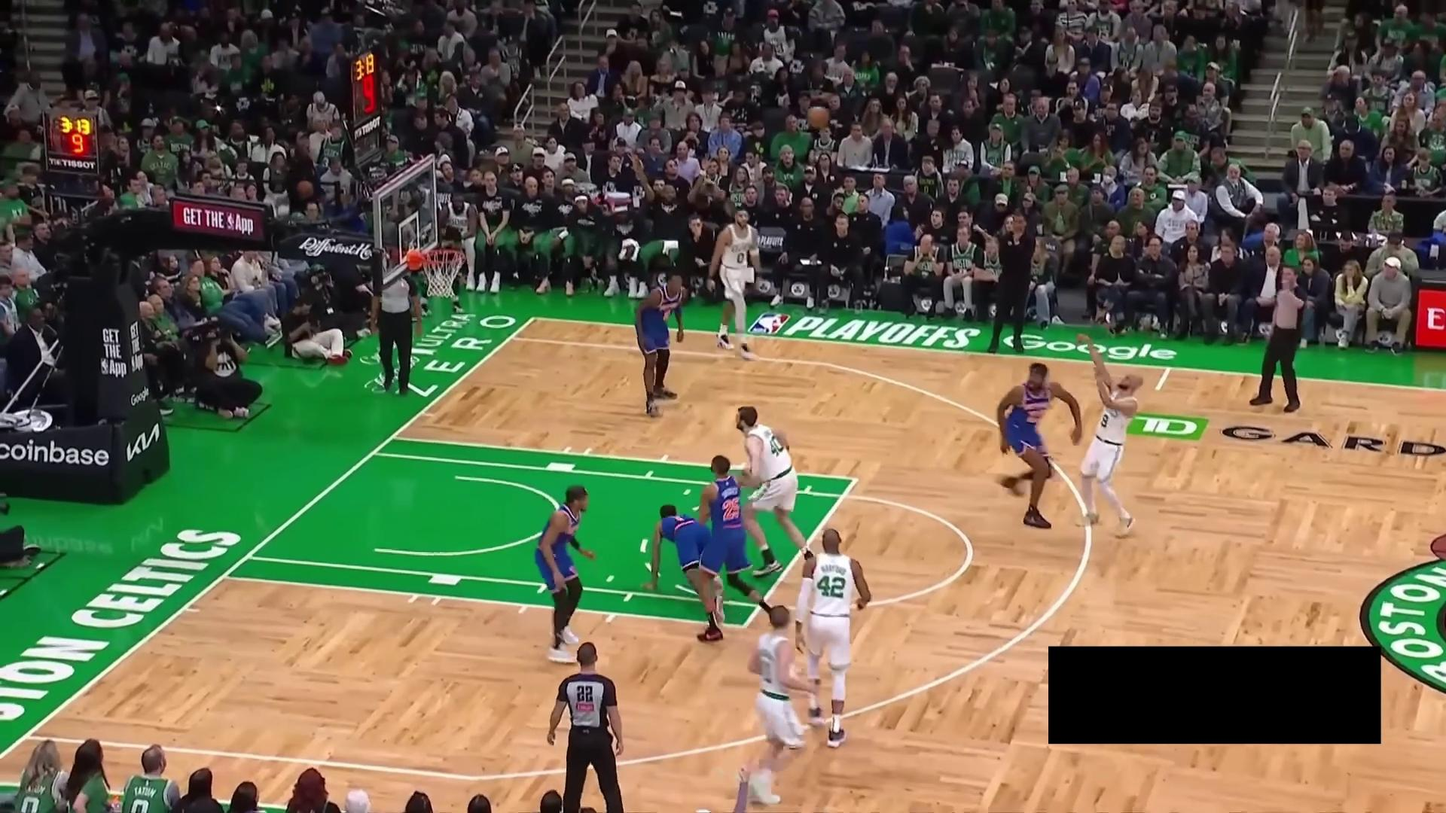ball: (807, 104, 830, 128)
number: (816, 573, 848, 599), (721, 497, 742, 522), (767, 434, 784, 458), (1100, 413, 1110, 427), (736, 252, 745, 264)
player: (788, 519, 876, 749), (734, 605, 819, 808), (694, 448, 779, 646), (731, 403, 825, 580), (1073, 326, 1146, 538), (994, 359, 1083, 528), (531, 484, 600, 664), (641, 500, 729, 626), (701, 204, 766, 364), (630, 271, 691, 420)
referee: (545, 637, 627, 813), (1245, 265, 1307, 413), (367, 265, 427, 393)
rim: (420, 246, 466, 268)
